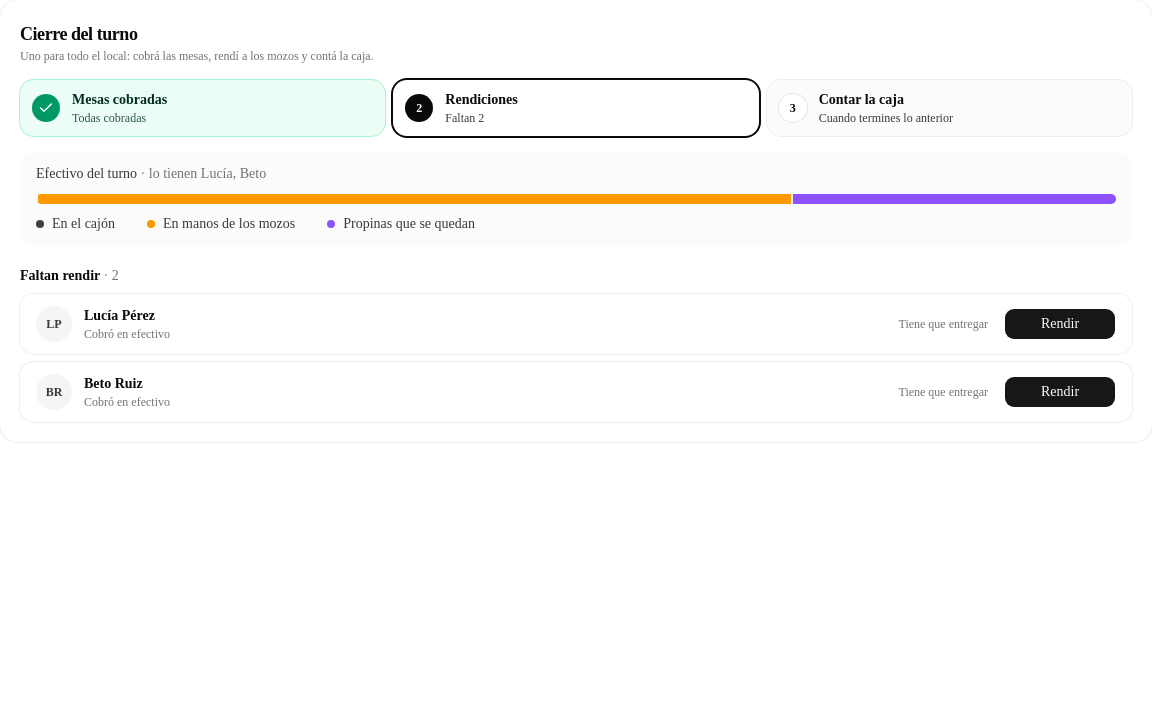
CierreDelTurno › con mozos sin rendir › con varios pendientes, cada uno con su botón y sin primario arriba
Expected: the text "Faltan 2" is shown, [445,111,484,125]
Click the button with aria-label "Rendir a Beto Ruiz" at (1060, 392), box [1004,376,1116,408]
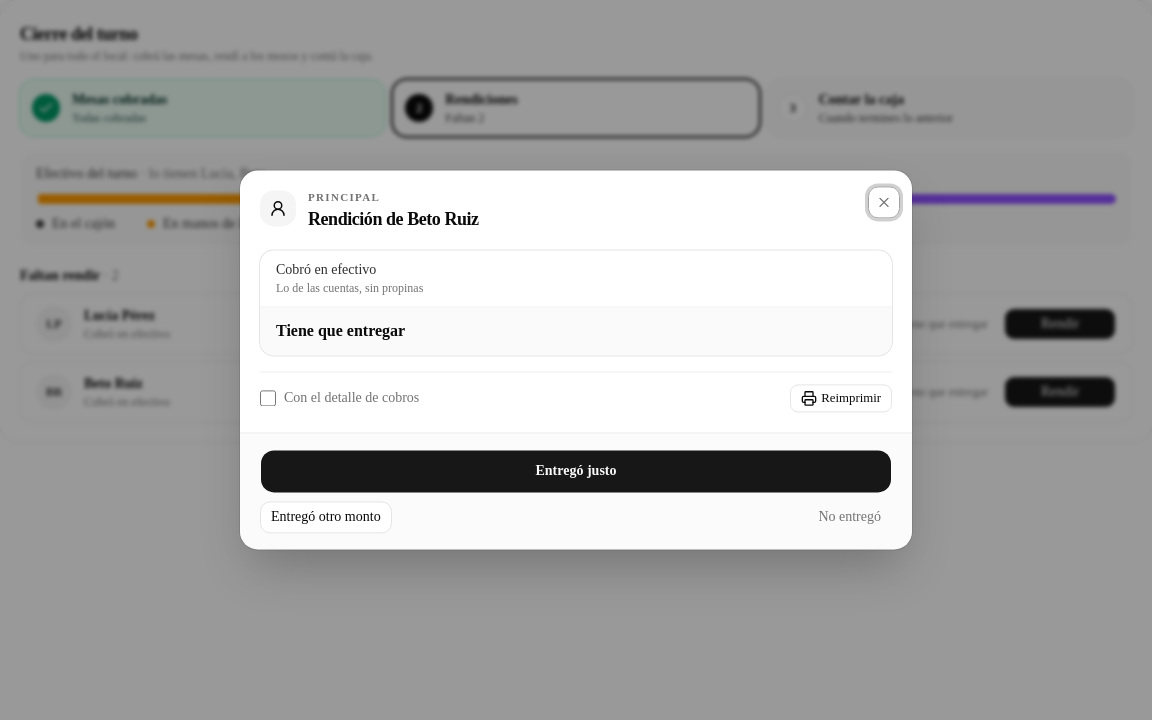
Now the heading "Rendición de Beto Ruiz" is shown, box [308,209,479,229]
